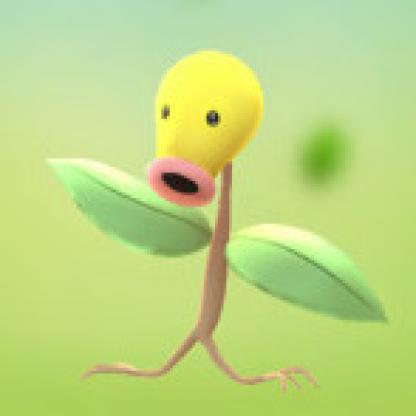Bellsprout: (58, 45, 384, 392)
